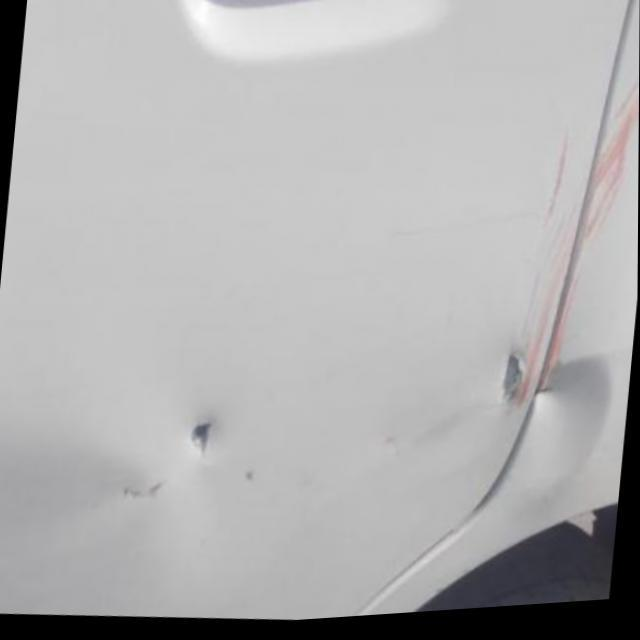crack: (175, 405, 236, 472), (493, 347, 534, 429), (112, 476, 173, 507)
dent: (238, 465, 261, 496)
scratch: (514, 88, 639, 432)
